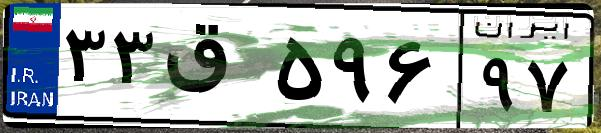3: (57, 26, 110, 100), (110, 28, 158, 98)
5: (270, 28, 330, 110)
6: (385, 28, 445, 110)
7: (525, 38, 570, 115)
9: (330, 28, 385, 110), (475, 38, 525, 113)
ق: (158, 20, 270, 120)
